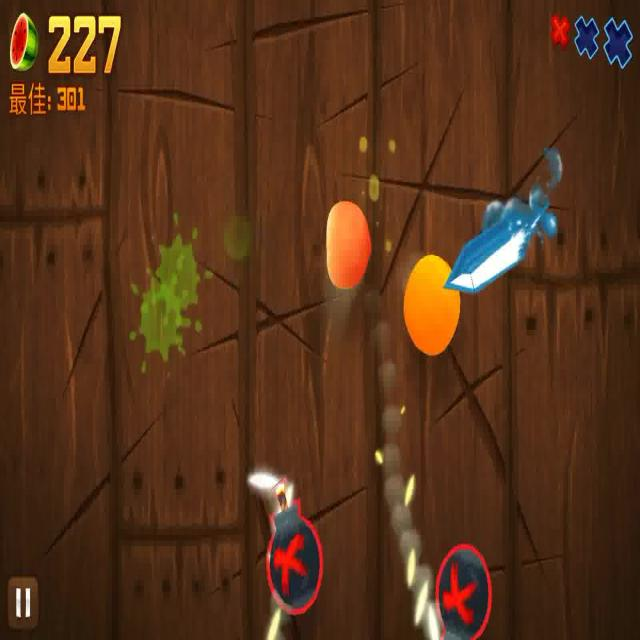bomb: (246, 459, 321, 622), (411, 532, 492, 640)
fruit: (404, 254, 459, 353), (326, 196, 371, 292)
